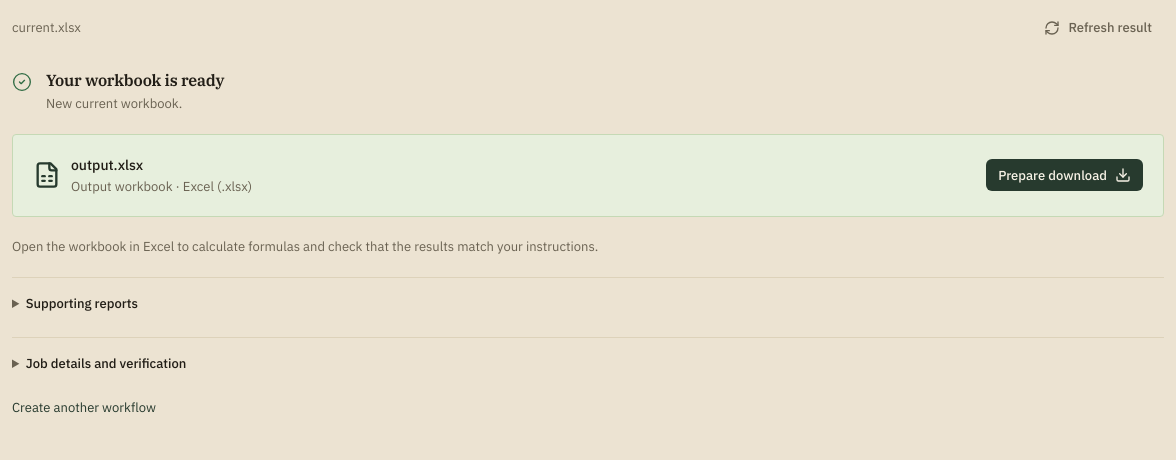
Test: blocks a signed link for a different artifact key
This screenshot has width=1176, height=460.
Step 1. Click the button "Prepare download" → click(1065, 175), box [986,159,1143,191]
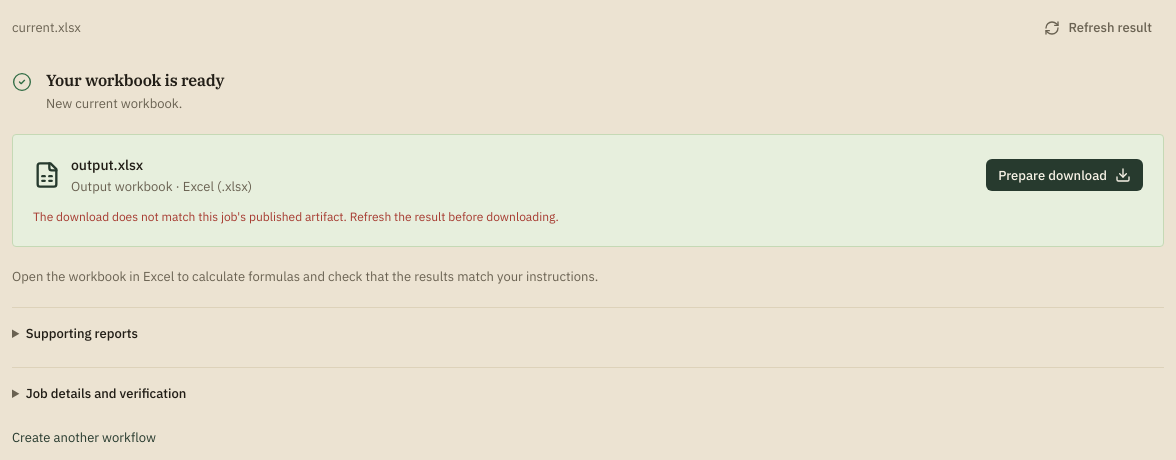
Check: the message shows "does not match this job", box [33,209,559,224]
